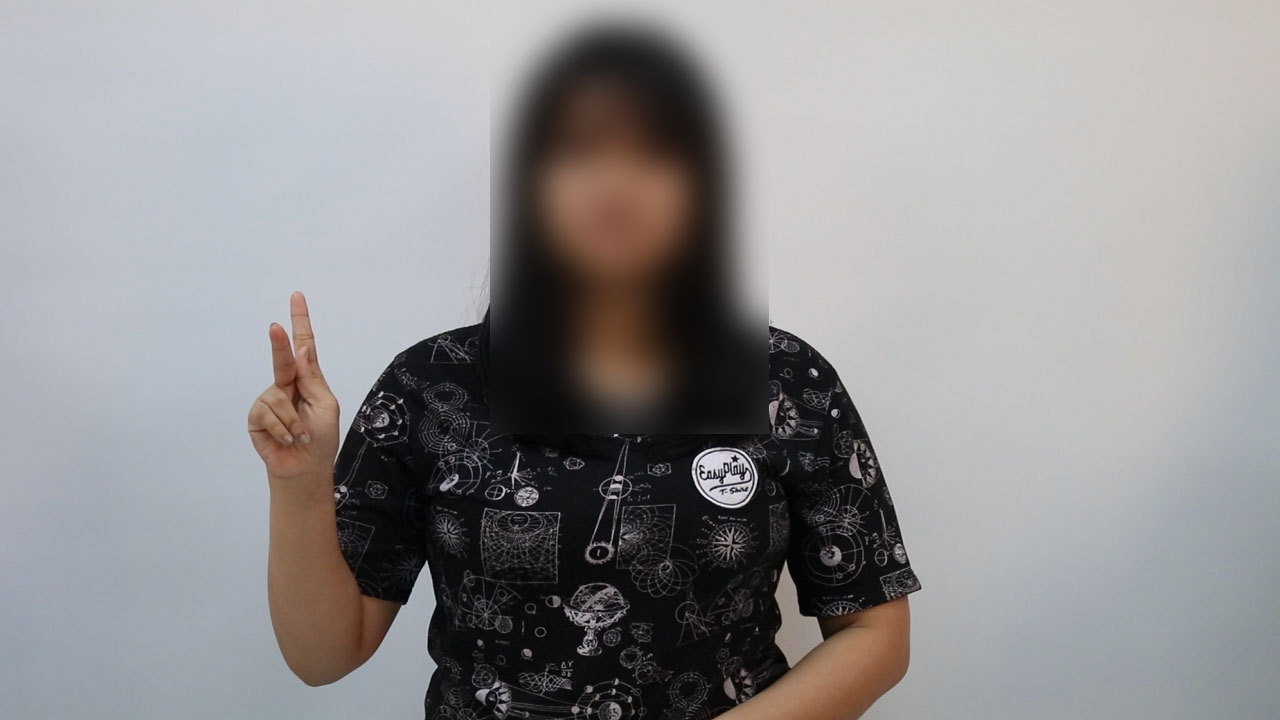ko: (201, 277, 394, 533)
